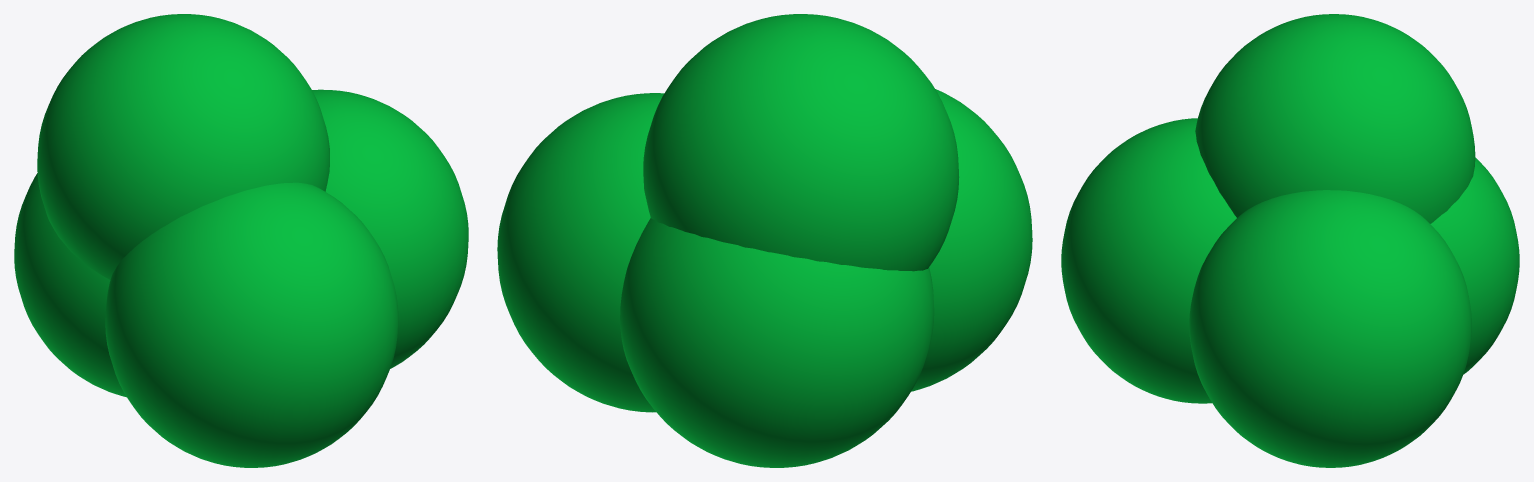
The model's file is Goo Cluster.fbx.
3 views of the same model, side by side, from view 1: azimuth 30°, elevation 25°; view 2: azimuth 150°, elevation 25°; view 3: azimuth 270°, elevation 25° (orthographic). The views are drawn at different scales.
Visible parts, largest first — view 1: pSphere3, pSphere1, pasted__pSphere3, pSphere2; view 2: pSphere1, pSphere2, pasted__pSphere3, pSphere3; view 3: pasted__pSphere3, pSphere1, pSphere3, pSphere2.
Boxes of the visible parts, left/top/right/bottom form: pSphere3: left=105, top=182, right=398, bottom=467; pSphere1: left=37, top=14, right=329, bottom=279; pasted__pSphere3: left=312, top=89, right=468, bottom=368; pSphere2: left=14, top=173, right=126, bottom=397; pSphere1: left=643, top=14, right=959, bottom=271; pSphere2: left=620, top=218, right=934, bottom=467; pasted__pSphere3: left=497, top=93, right=664, bottom=412; pSphere3: left=911, top=89, right=1032, bottom=391; pasted__pSphere3: left=1189, top=190, right=1471, bottom=467; pSphere1: left=1195, top=14, right=1475, bottom=223; pSphere3: left=1061, top=118, right=1236, bottom=403; pSphere2: left=1430, top=157, right=1519, bottom=374.
Size of the model in its own units: 3.03 by 2.8 by 3.19.
